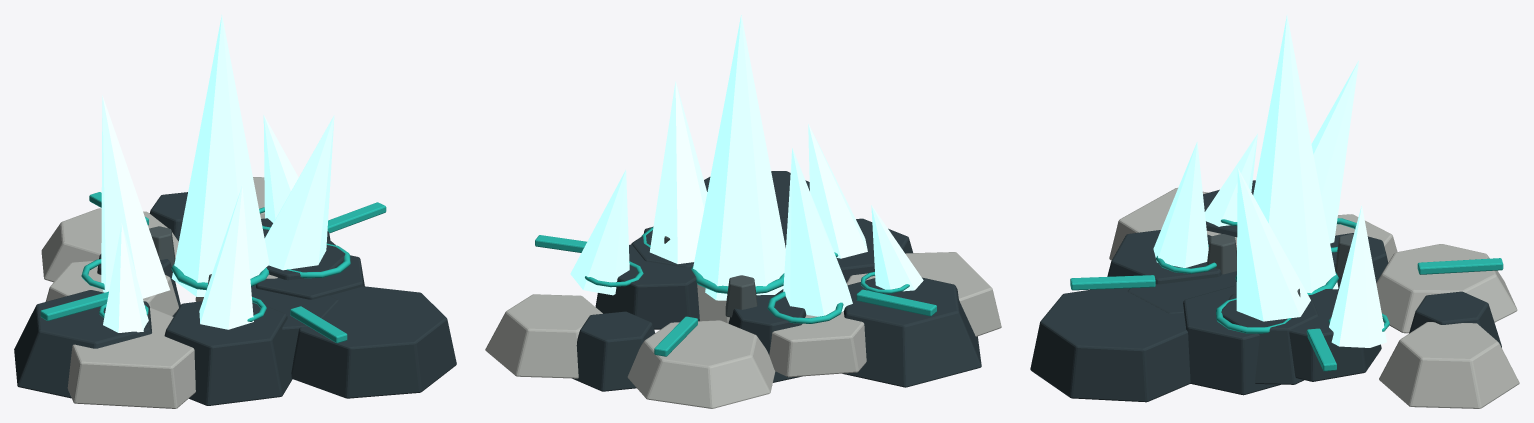
File: SM_Ore.fbx
3 renders of one model, left to right at view 1: azimuth 30°, elevation 25°; view 2: azimuth 150°, elevation 25°; view 3: azimuth 270°, elevation 25°, orthographic. The views are drawn at different scales.
Parts seen in each view (by area): view 1: SM_Ore; view 2: SM_Ore; view 3: SM_Ore.
Boxes of the visible parts, x1,y1,x2,y2 form: SM_Ore: (14,15,456,408); SM_Ore: (485,15,1001,408); SM_Ore: (1030,14,1519,408).
Size of the model in its own units: 88.73 by 90 by 65.
